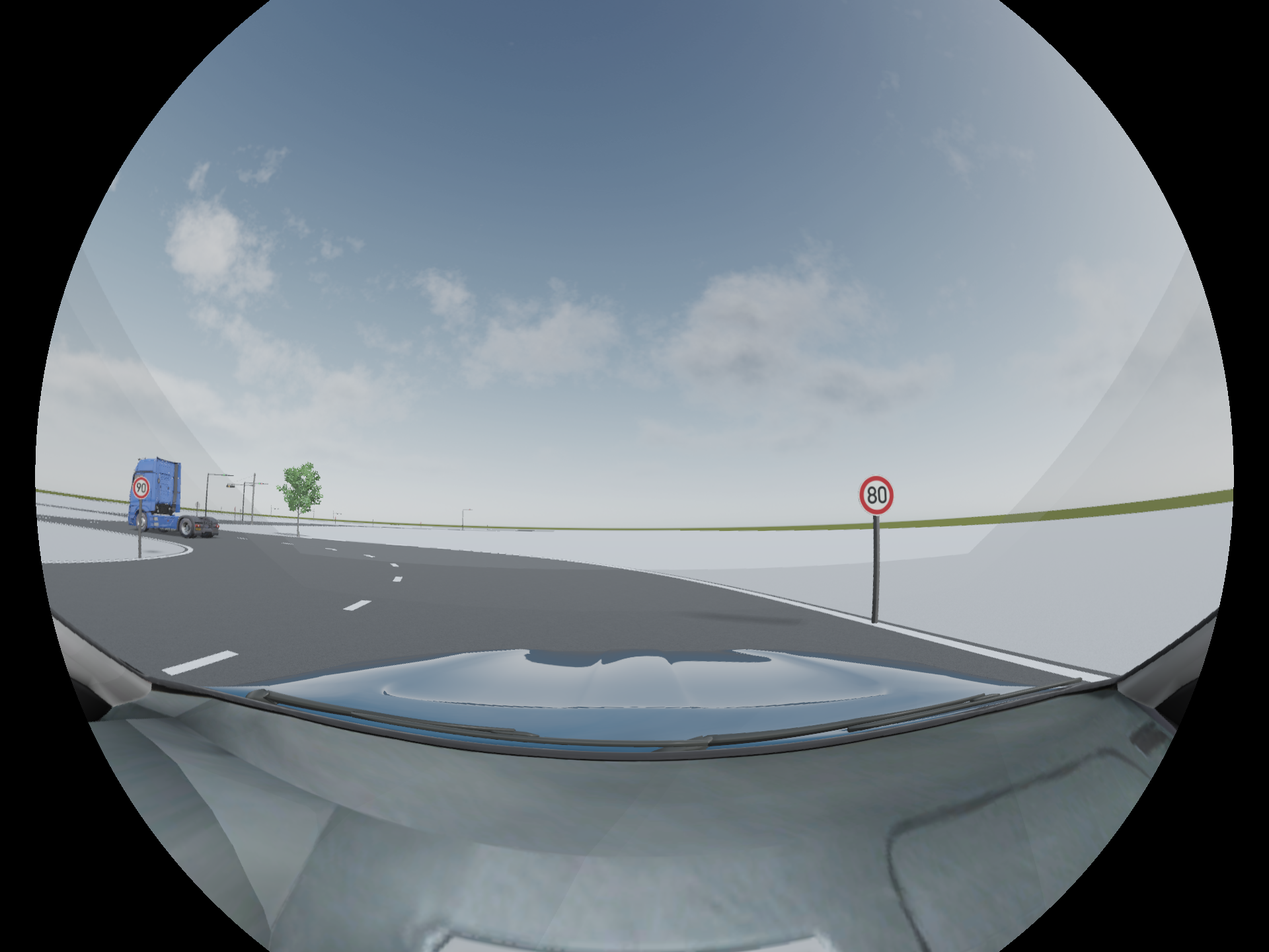Speed Limit 80: (859, 475, 893, 512)
Speed Limit 90: (133, 478, 149, 499)
